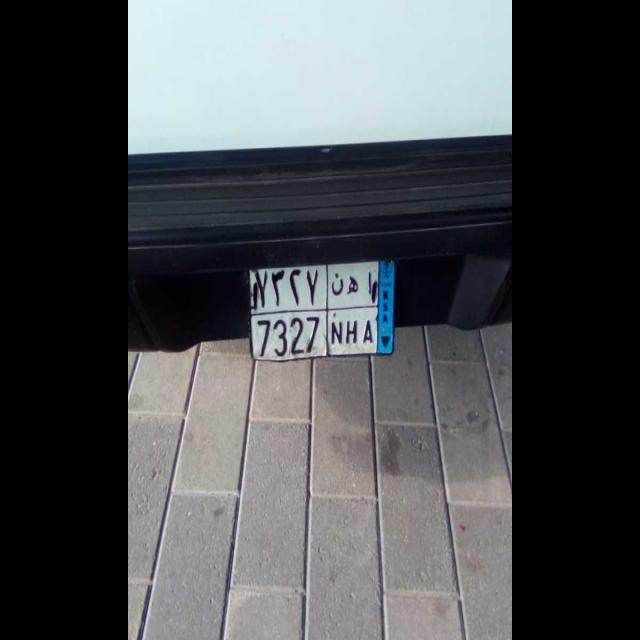license_plate: (253, 310, 376, 365)
